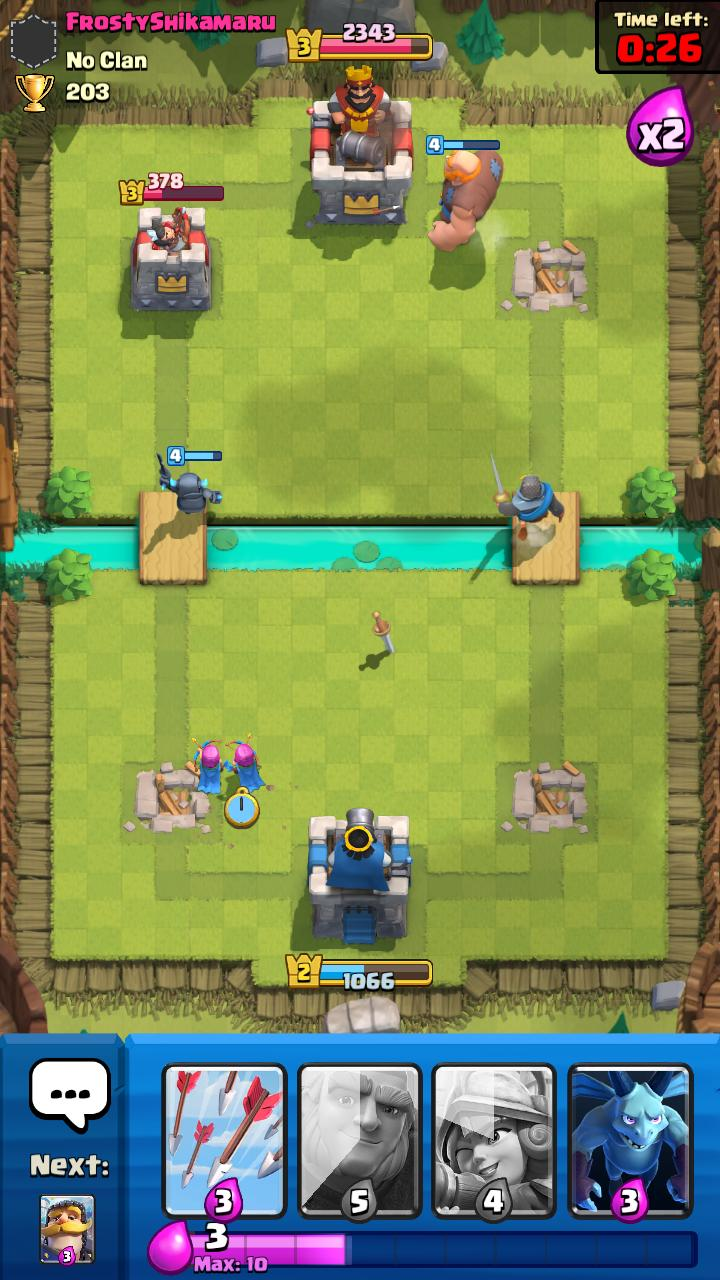ally: (426, 135, 505, 253), (491, 453, 565, 542), (156, 445, 222, 515), (225, 733, 266, 793), (192, 738, 230, 795)
